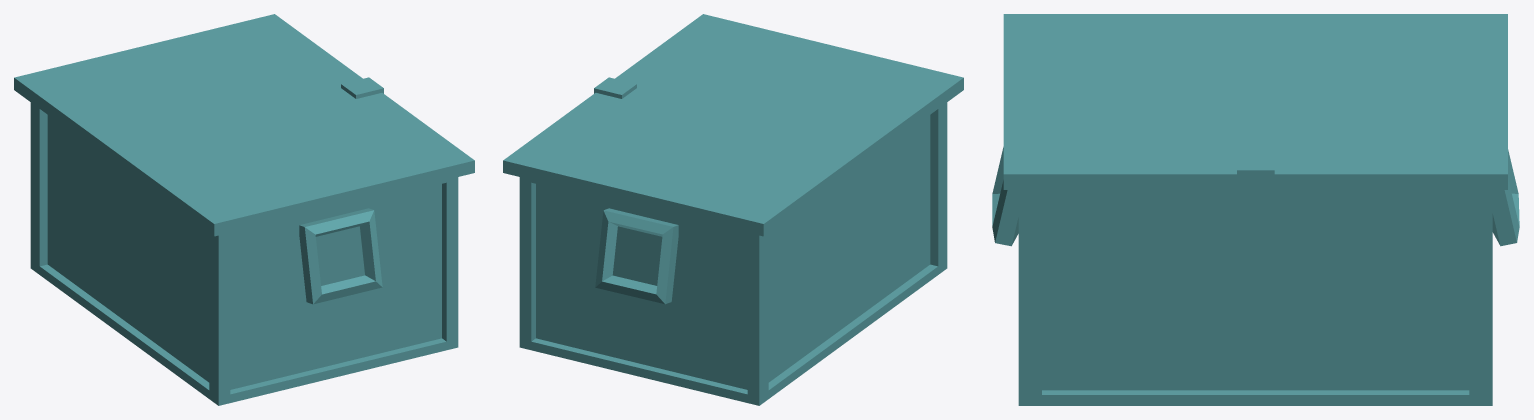
The model's file is kibako.fbx.
3 views of the same model, side by side, from view 1: azimuth 30°, elevation 25°; view 2: azimuth 150°, elevation 25°; view 3: azimuth 270°, elevation 25° (orthographic). The views are drawn at different scales.
Visible parts, largest first — view 1: pCube17, pTorus5, pCube18; view 2: pCube17, pTorus6, pCube18; view 3: pCube17, pCube18, pTorus5, pTorus6.
Boxes of the visible parts, x1,y1,x2,y2 form: pCube17: (14, 14, 474, 405); pTorus5: (299, 208, 382, 304); pCube18: (341, 77, 383, 98); pCube17: (503, 14, 963, 405); pTorus6: (595, 208, 678, 304); pCube18: (594, 77, 636, 98); pCube17: (1003, 14, 1507, 405); pCube18: (1237, 153, 1274, 227); pTorus5: (992, 147, 1018, 246); pTorus6: (1492, 149, 1519, 246).
Size of the model in its own units: 0.8055 by 0.5658 by 1.11.
